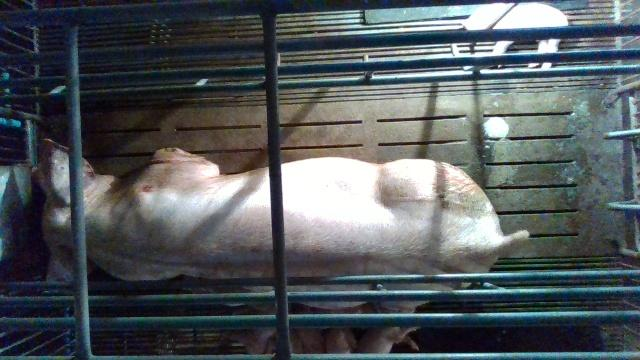piglet: (462, 2, 567, 69)
sow-sit: (32, 139, 530, 316)
